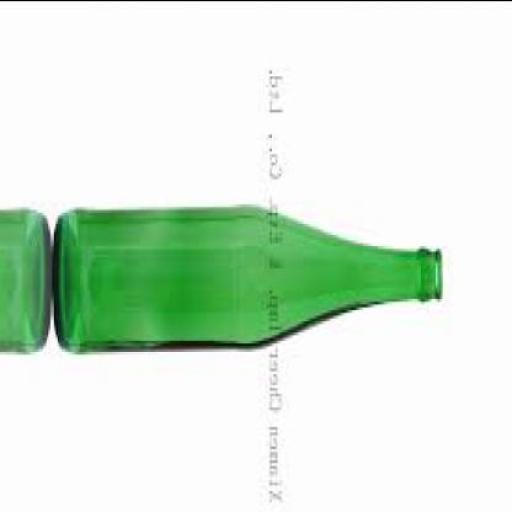glass: (53, 208, 445, 354)
